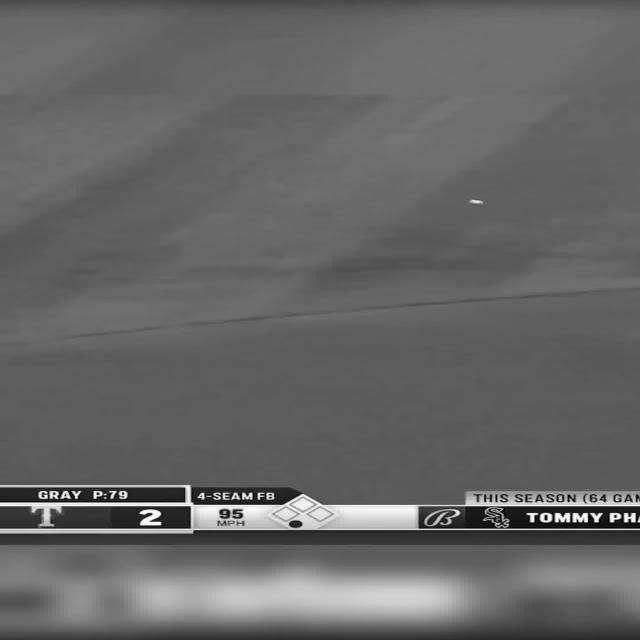baseball: (468, 199, 484, 205)
